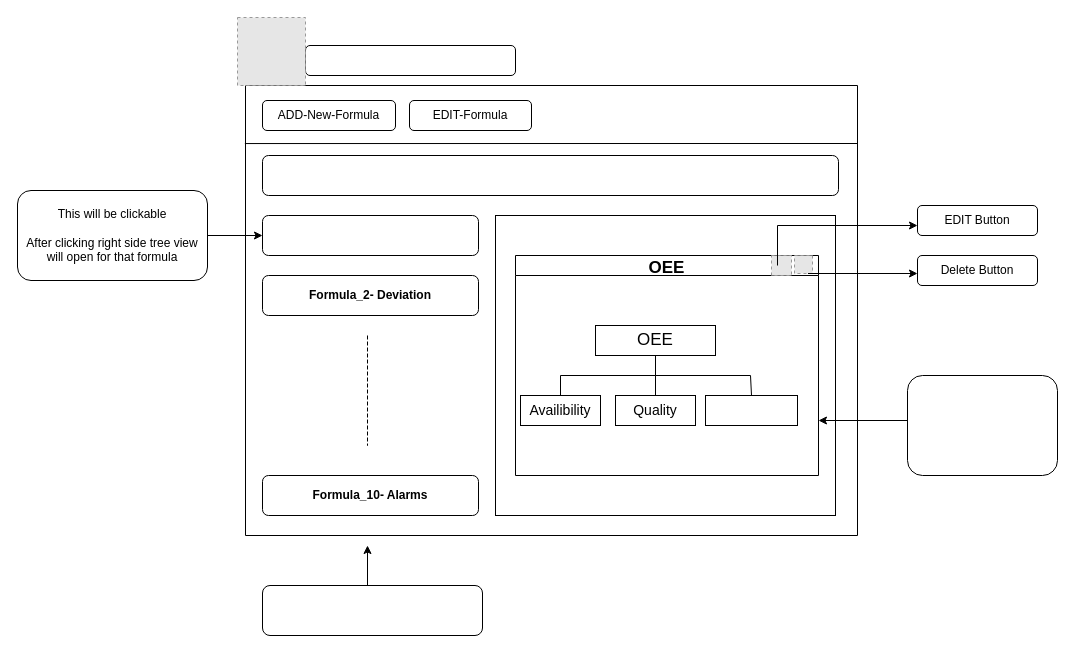
The diagram is 1075 pixels wide and 653 high, and some of its shapes have lost their labels. Grey dashed boxes stand in for pictures. The shapes that lost their labels are listed below. From the top down, each one's centre as x and y in pixels, then its label:
At (410,60): "Itanta Formula Builder - UI".
At (550,175): "Existing Formulas List will be here".
At (370,235): "Formula_1- OEE".
At (751,410): "Performance".
At (982,425): "Final Formula Visualization will be here".
At (372,610): "List of Existing formulas will be on left".
